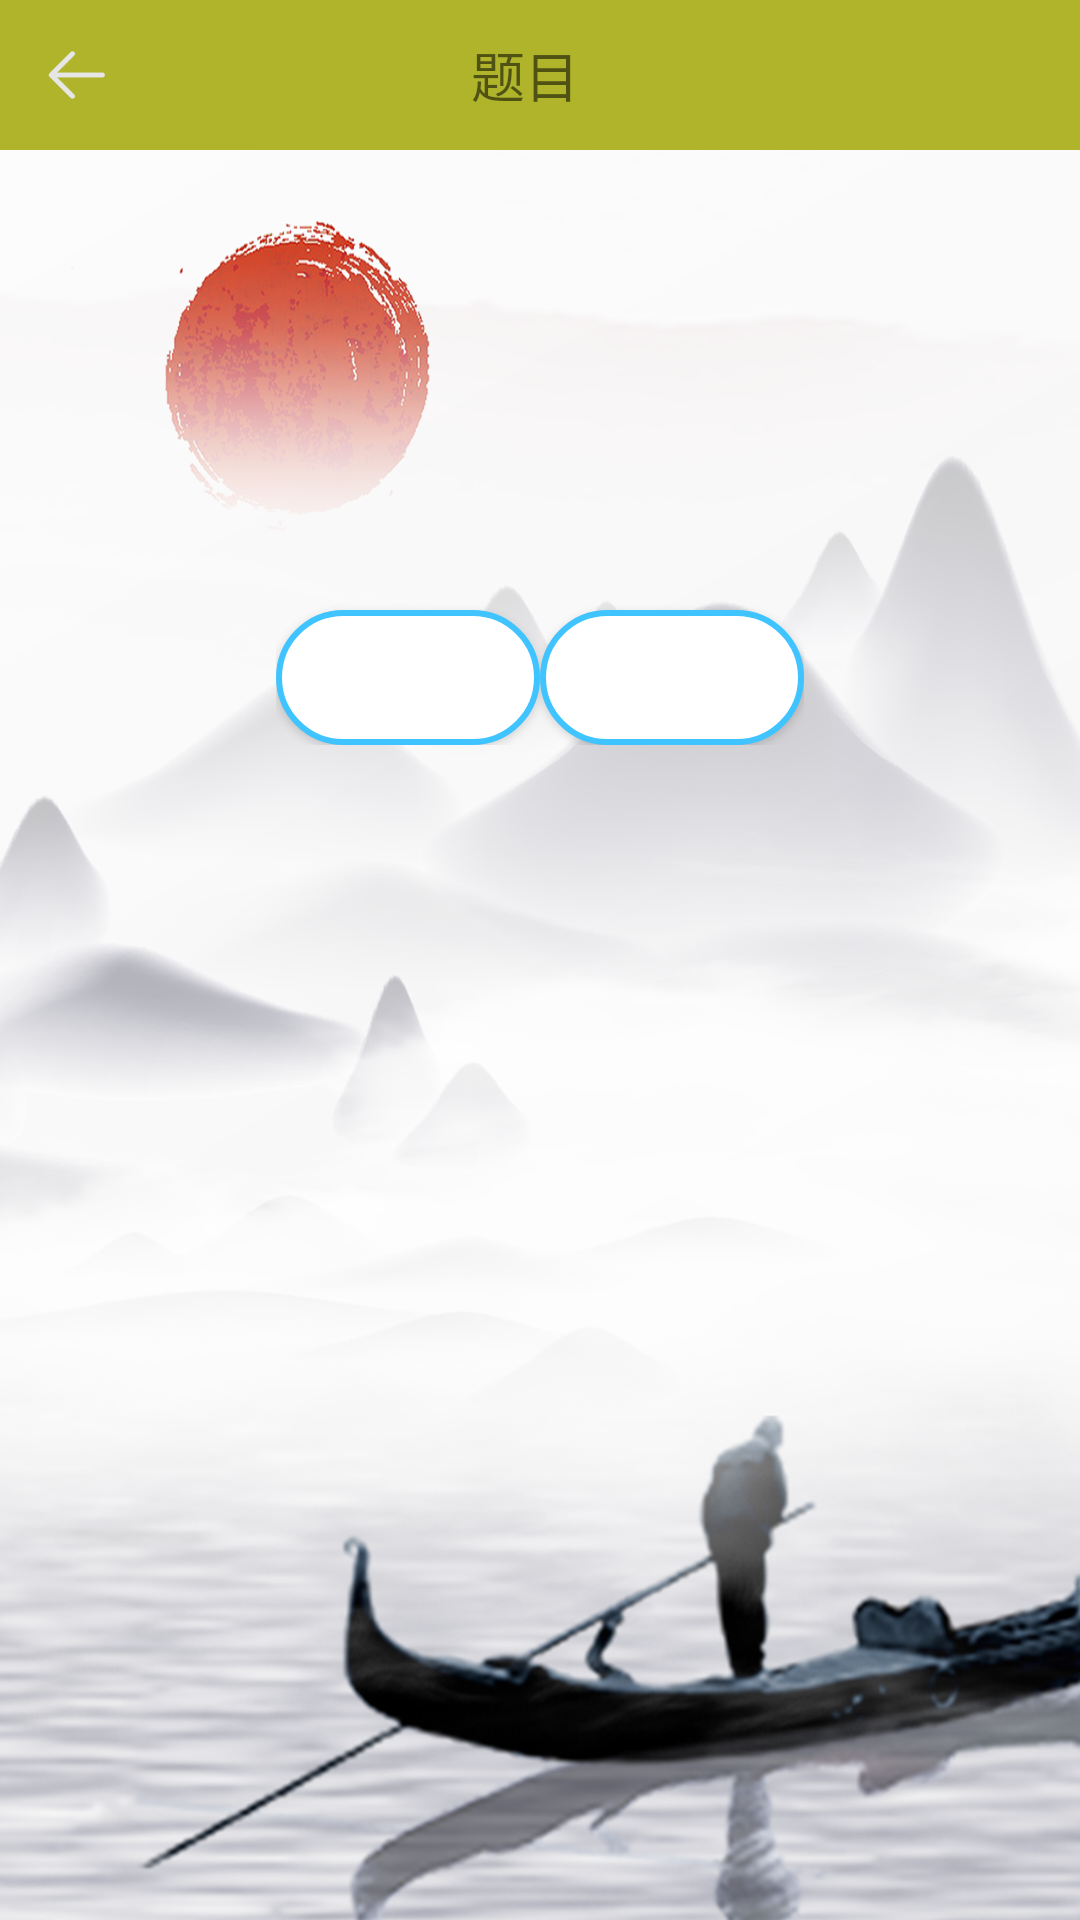

Point at icon controls on the screen. Image size 1080px x 1920px, points as point (x, y).
back: point (76, 75)
